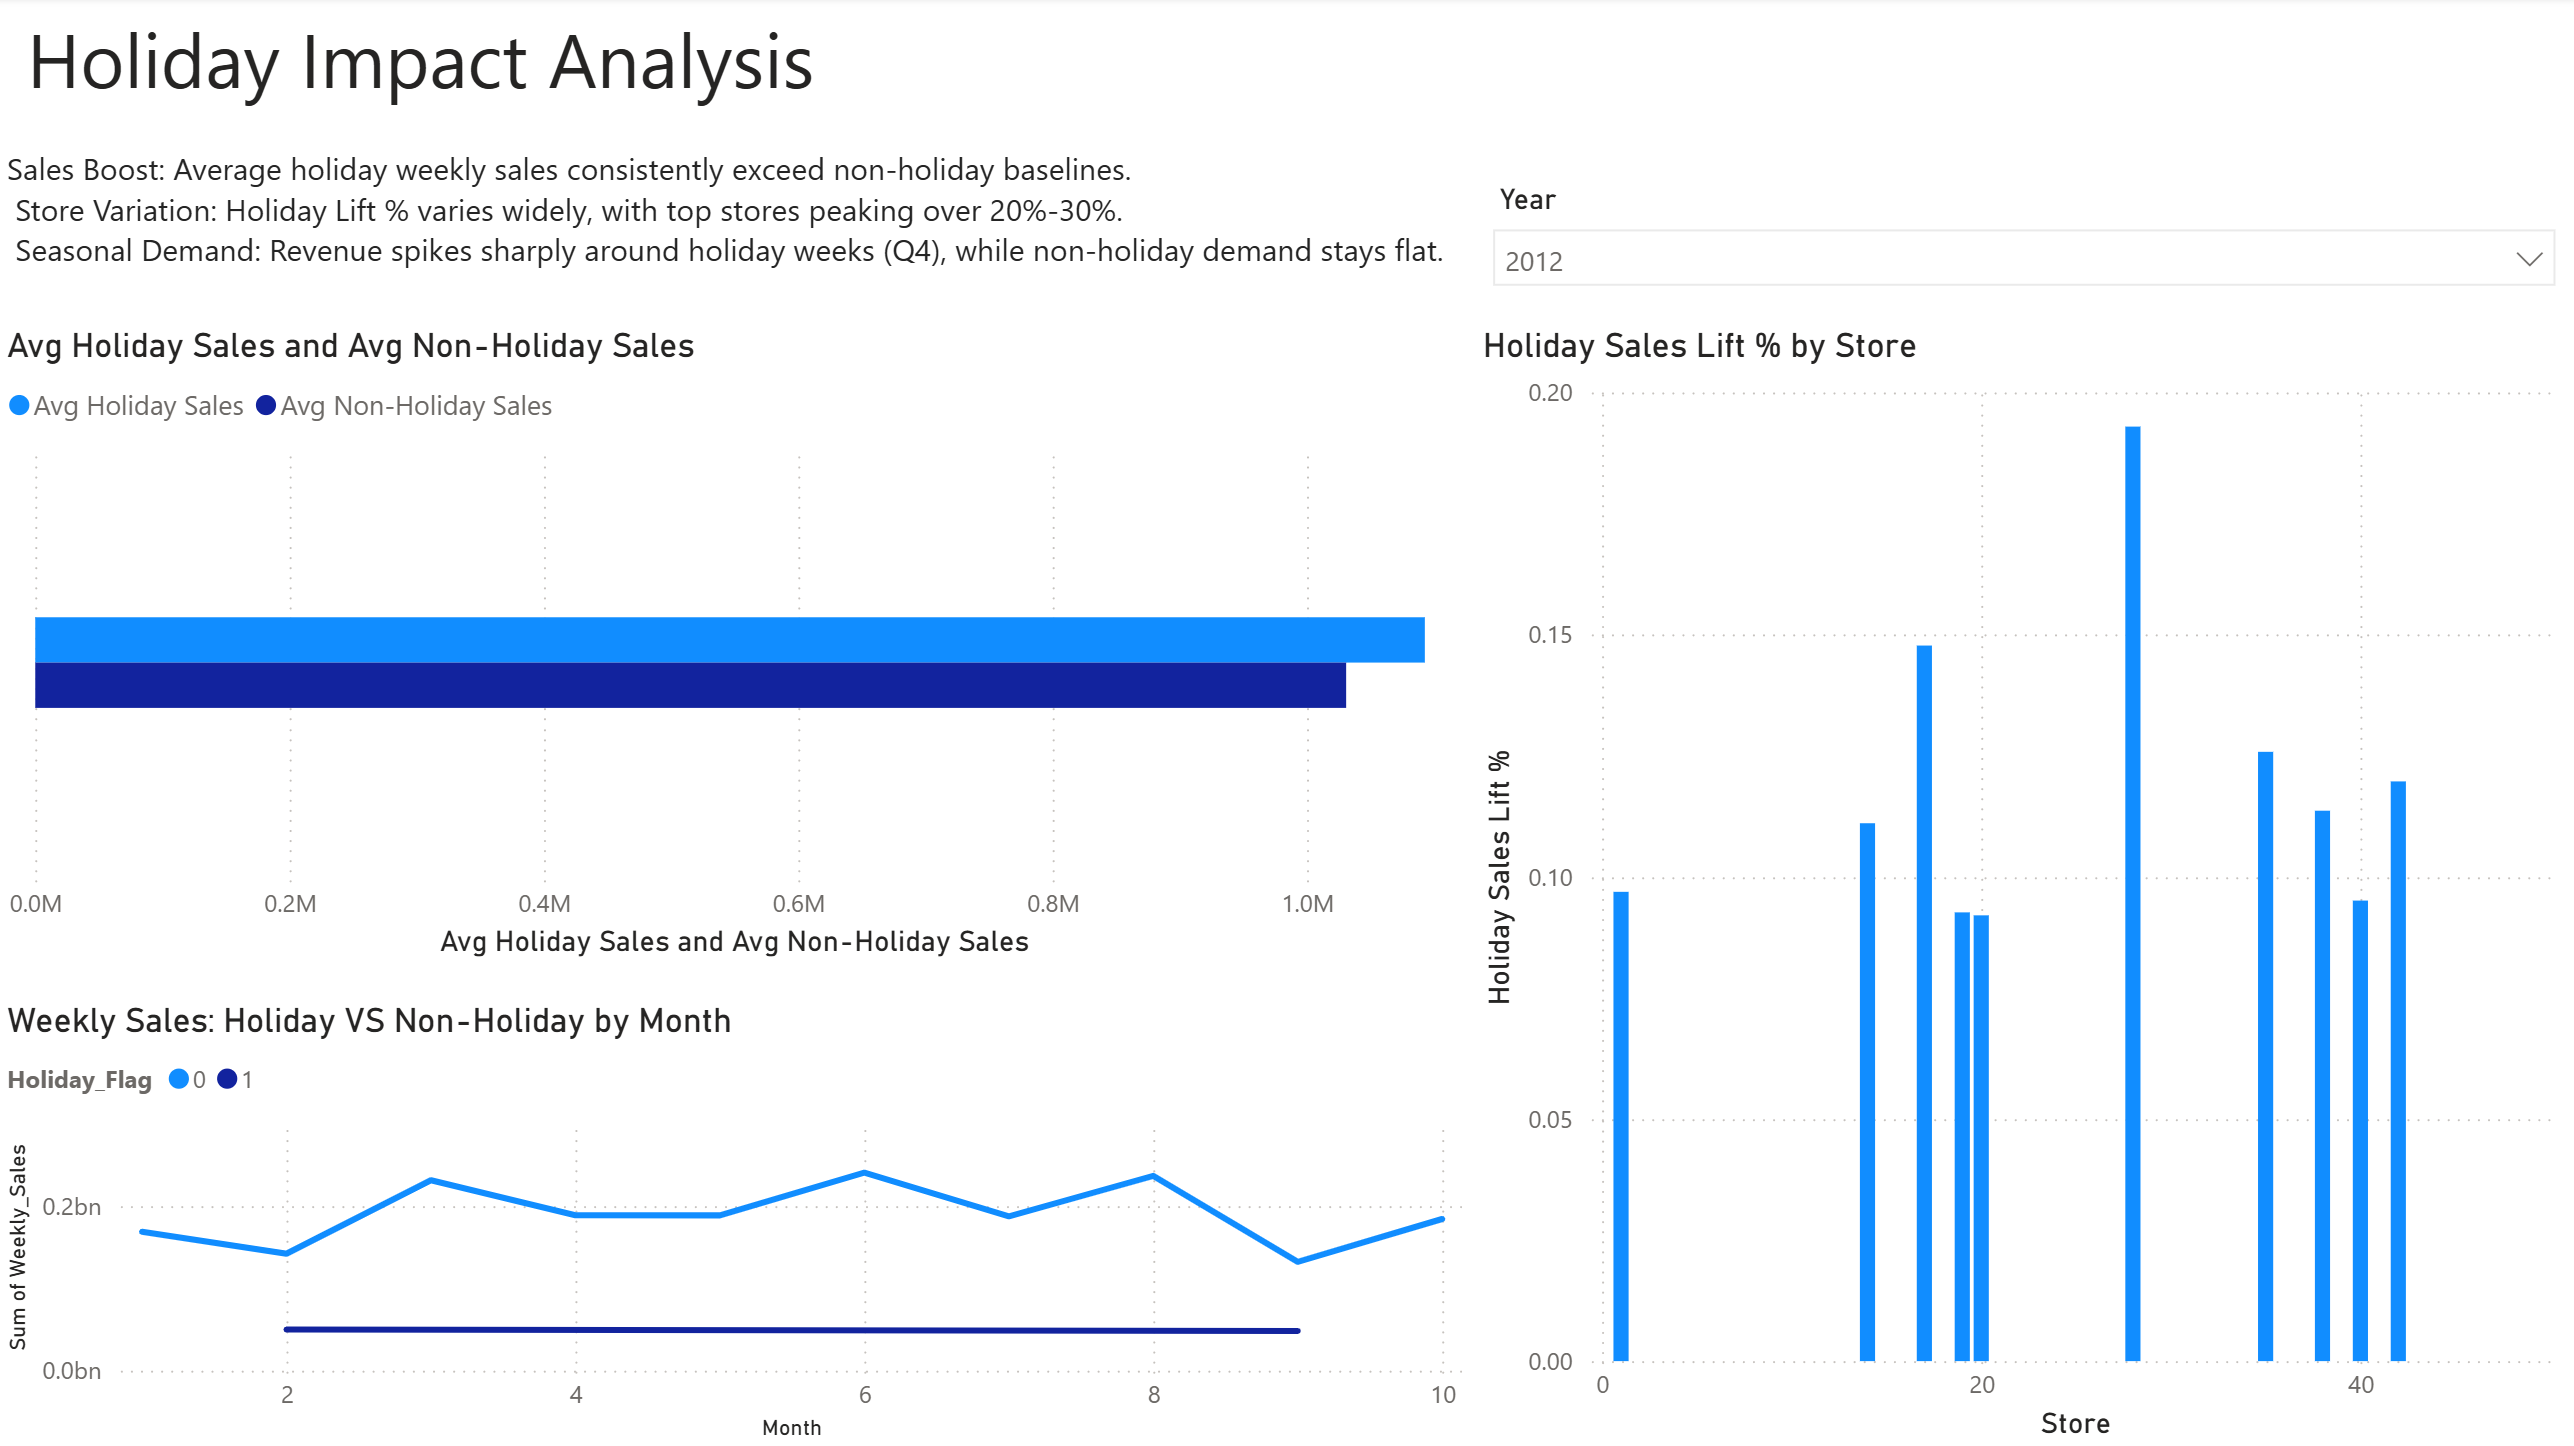

What the dashboard file says about the page in this screenshot:
{"tool":"powerbi","page":{"name":"Holiday Impact Analysis","canvas":[1280,720],"ordinal":2},"visuals":[{"type":"clusteredBarChart","fields":{"Y":["Measure-.Avg Holiday Sales","Measure-.Avg Non-Holiday Sales"]},"box":[0,163.6,732.6,317.6],"z":0},{"type":"lineChart","title":"Weekly Sales: Holiday VS Non-Holiday by Month","fields":{"Category":["Dim-Date.Month"],"Series":["Dim-Date.Holiday_Flag"],"Y":["Sum(Fact-Sales.Weekly_Sales)"]},"box":[0,498,732.6,222.6],"z":1000},{"type":"clusteredColumnChart","fields":{"Category":["Dim-Store.Store"],"Y":["Measure-.Holiday Sales Lift %"]},"box":[732.6,163.6,547.4,557],"z":2000},{"type":"slicer","fields":{"Values":["Dim-Date.Year"]},"box":[732.6,87.8,547.4,75.8],"z":3000},{"type":"textbox","box":[10,0,435.7,71.4],"z":4000},{"type":"textbox","box":[0,71,732.6,92.6],"z":5000}]}

Visuals, with their boxes in screenshot pixels (x1, y1, x2, y2), scaled from the page's 1280x720 canvas onto the 2574x1446 screenshot:
clusteredBarChart - Measure-.Avg Holiday Sales x Measure-.Avg Non-Holiday Sales: 0:329:1473:966
"Weekly Sales: Holiday VS Non-Holiday by Month" lineChart: 0:1000:1473:1445
clusteredColumnChart - Dim-Store.Store x Measure-.Holiday Sales Lift %: 1473:329:2573:1445
slicer - Dim-Date.Year: 1473:176:2573:329
textbox: 20:0:896:143
textbox: 0:143:1473:329
